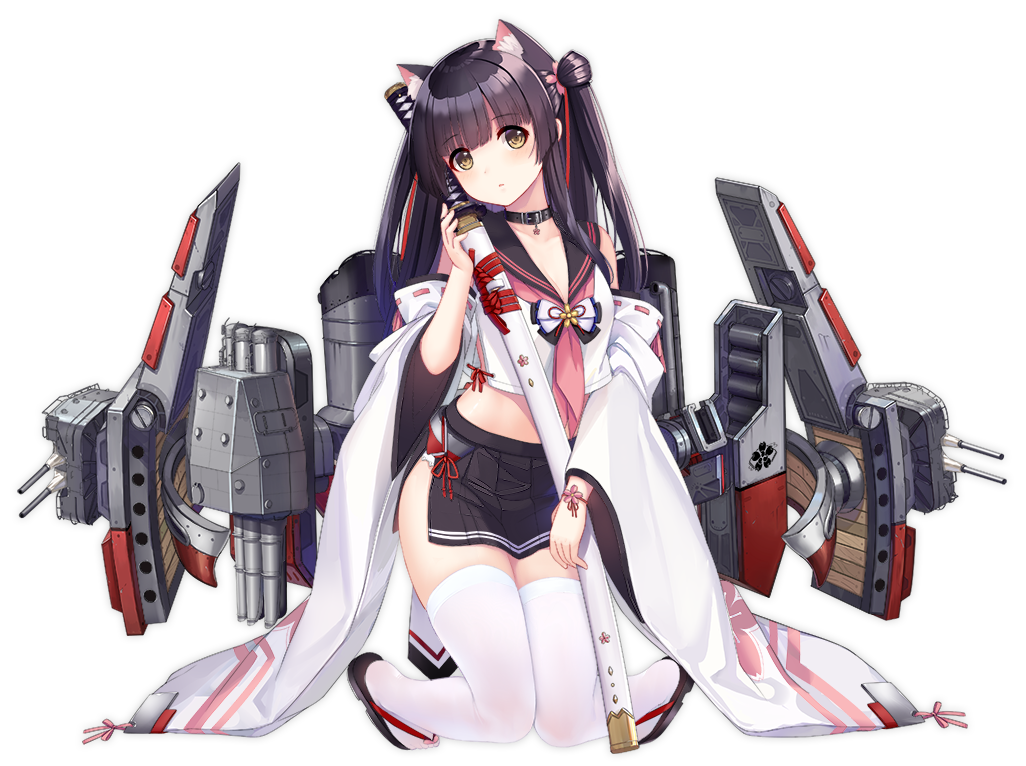person: (244, 1, 801, 766)
